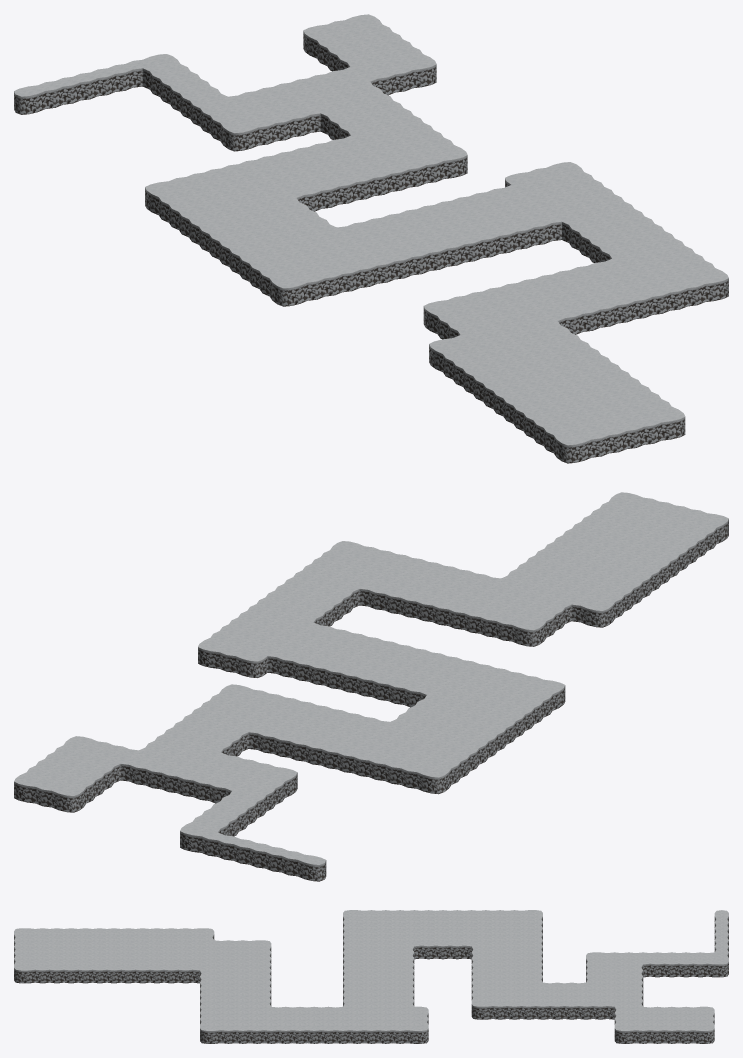
File: EndHole.fbx
The picture shows the model from 3 angles, top to bottom: view 1: azimuth 30°, elevation 25°; view 2: azimuth 150°, elevation 25°; view 3: azimuth 270°, elevation 25°; orthographic projection. The views are drawn at different scales.
Visible parts, largest first — view 1: Terrain; view 2: Terrain; view 3: Terrain.
Part boxes in pixels (<box>): Terrain: <box>14,14,728,463</box>; Terrain: <box>14,492,728,881</box>; Terrain: <box>14,910,728,1043</box>.
Bounding box in the file's own units: 20 × 1 × 50.
Materials: 1 (1 with a texture image).
